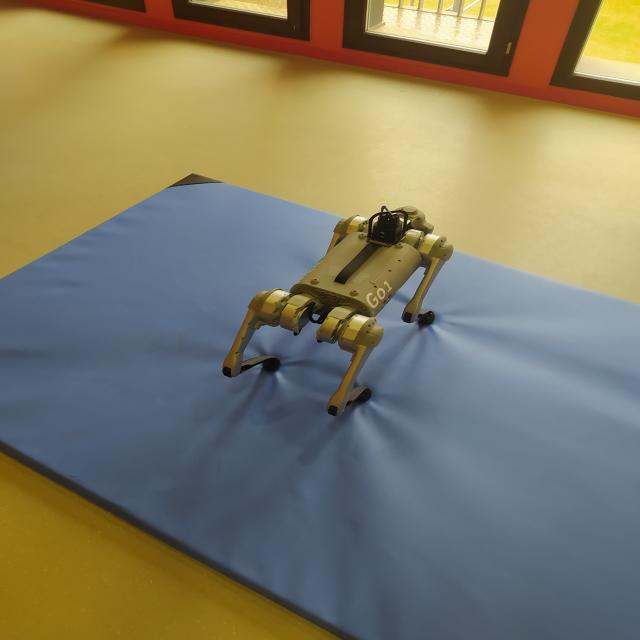unitree-go1-robot: (218, 196, 464, 431)
